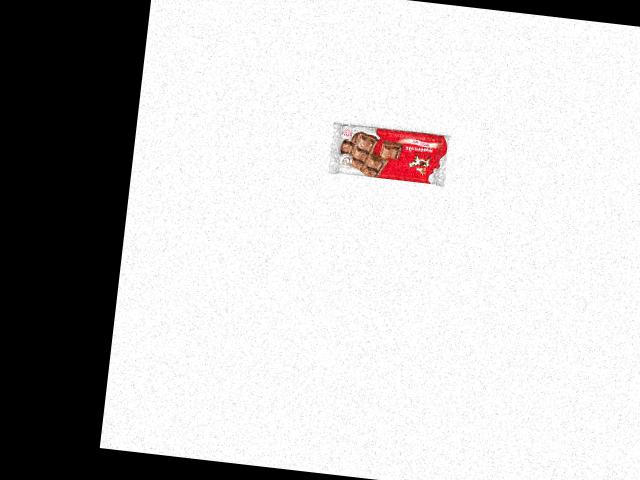chocolate: (323, 121, 451, 188)
